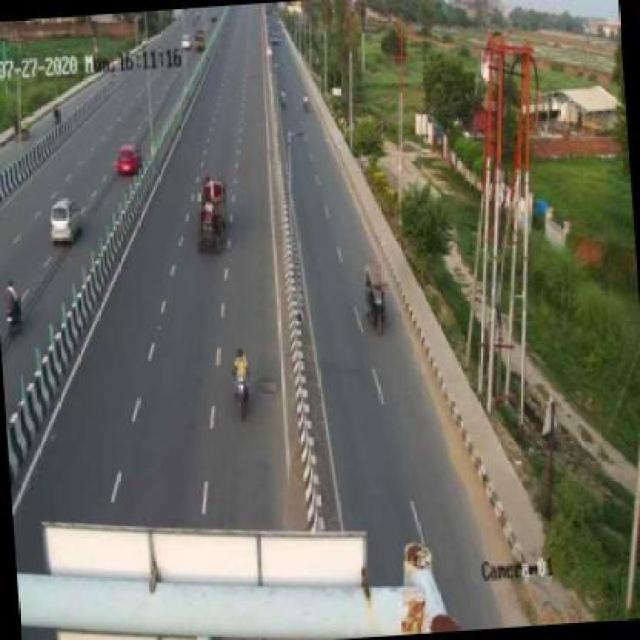car: (50, 200, 78, 246), (111, 143, 143, 175)
